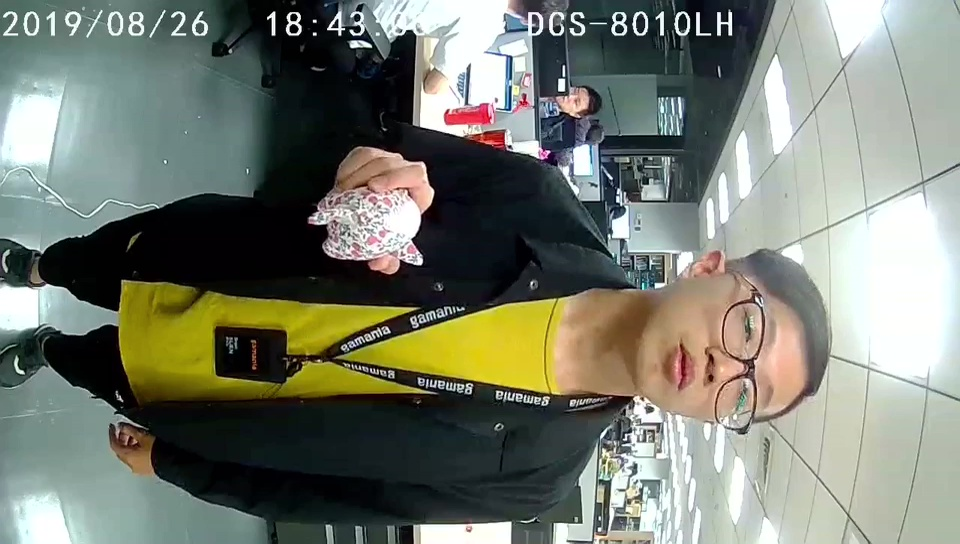pig: (318, 186, 424, 269)
